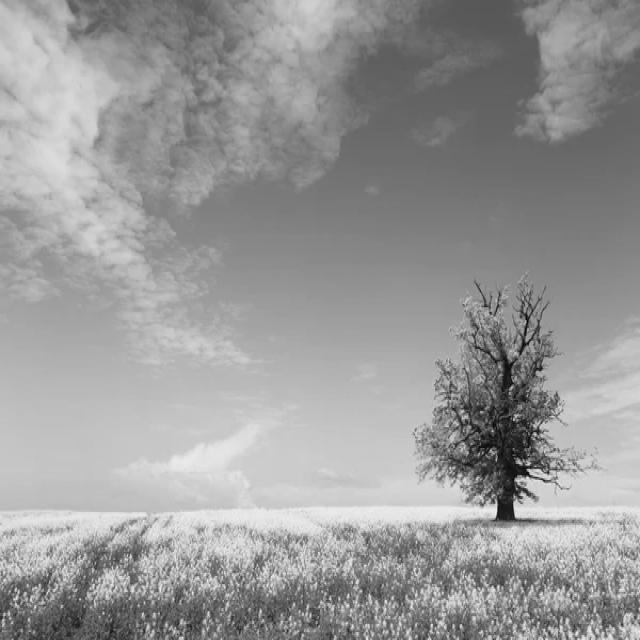Tree: (415, 274, 598, 522)
